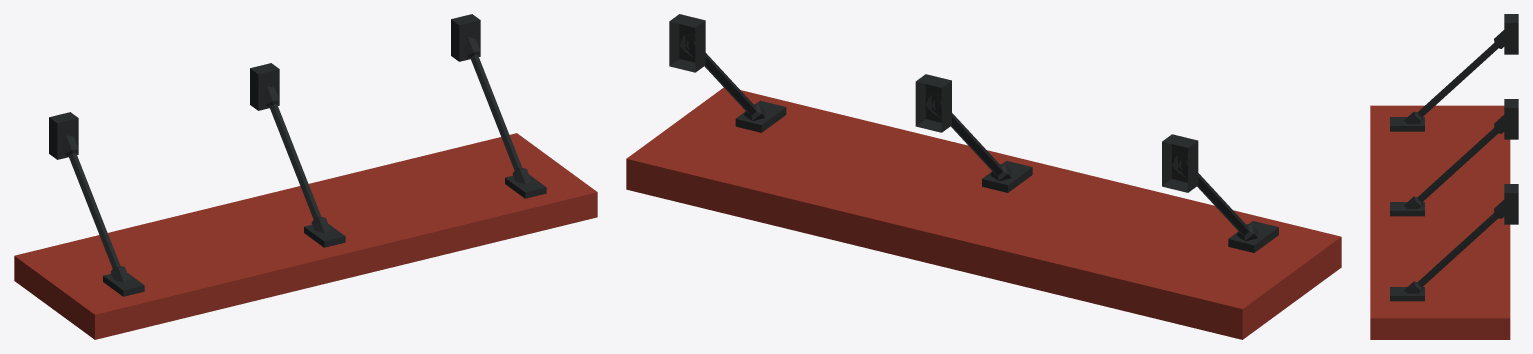
File: SM_Bld_Awning_05.obj
The picture shows the model from 3 angles, left to right: view 1: azimuth 30°, elevation 25°; view 2: azimuth 150°, elevation 25°; view 3: azimuth 270°, elevation 25°; orthographic projection. The views are drawn at different scales.
Parts seen in each view (by area): view 1: SM_Bld_Awning_05_0; view 2: SM_Bld_Awning_05_0; view 3: SM_Bld_Awning_05_0.
Boxes of the visible parts, <box> form: SM_Bld_Awning_05_0: <box>14,14,597,339</box>; SM_Bld_Awning_05_0: <box>626,14,1341,339</box>; SM_Bld_Awning_05_0: <box>1370,14,1518,339</box>.
Size of the model in its own units: 2.37 by 0.678 by 0.6992.
Materials: 1 (1 with a texture image).
